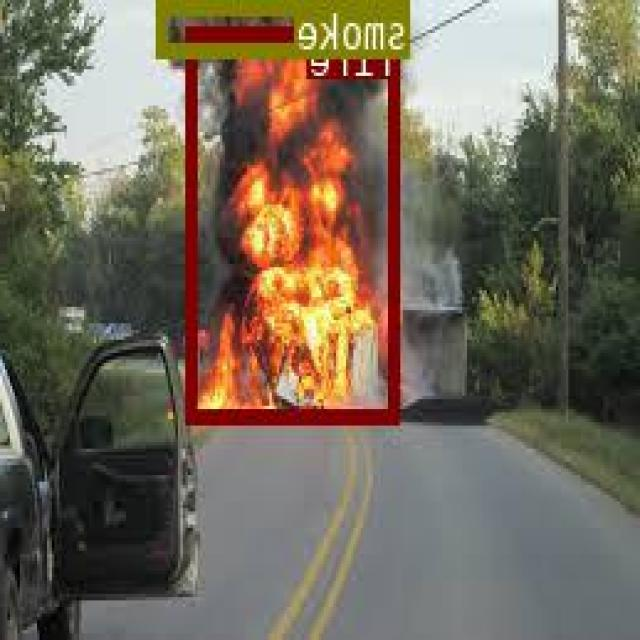fire: (189, 24, 401, 421)
smoke: (158, 0, 410, 53)
